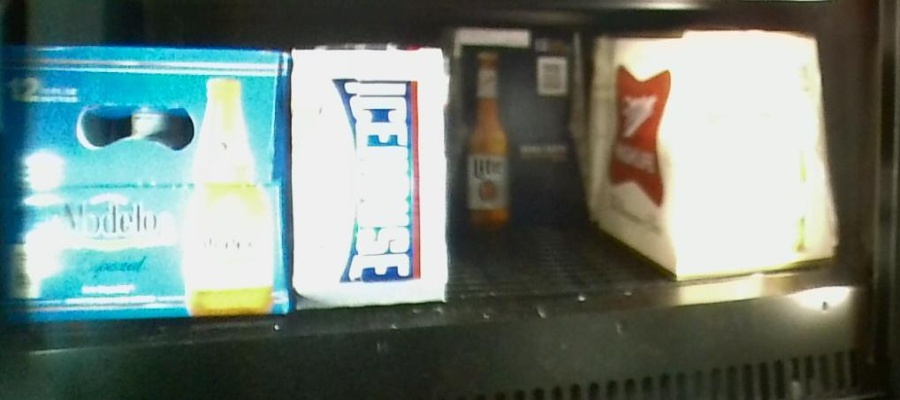bottle: (1, 46, 291, 316), (591, 28, 830, 270), (291, 47, 446, 306), (451, 27, 590, 228)
